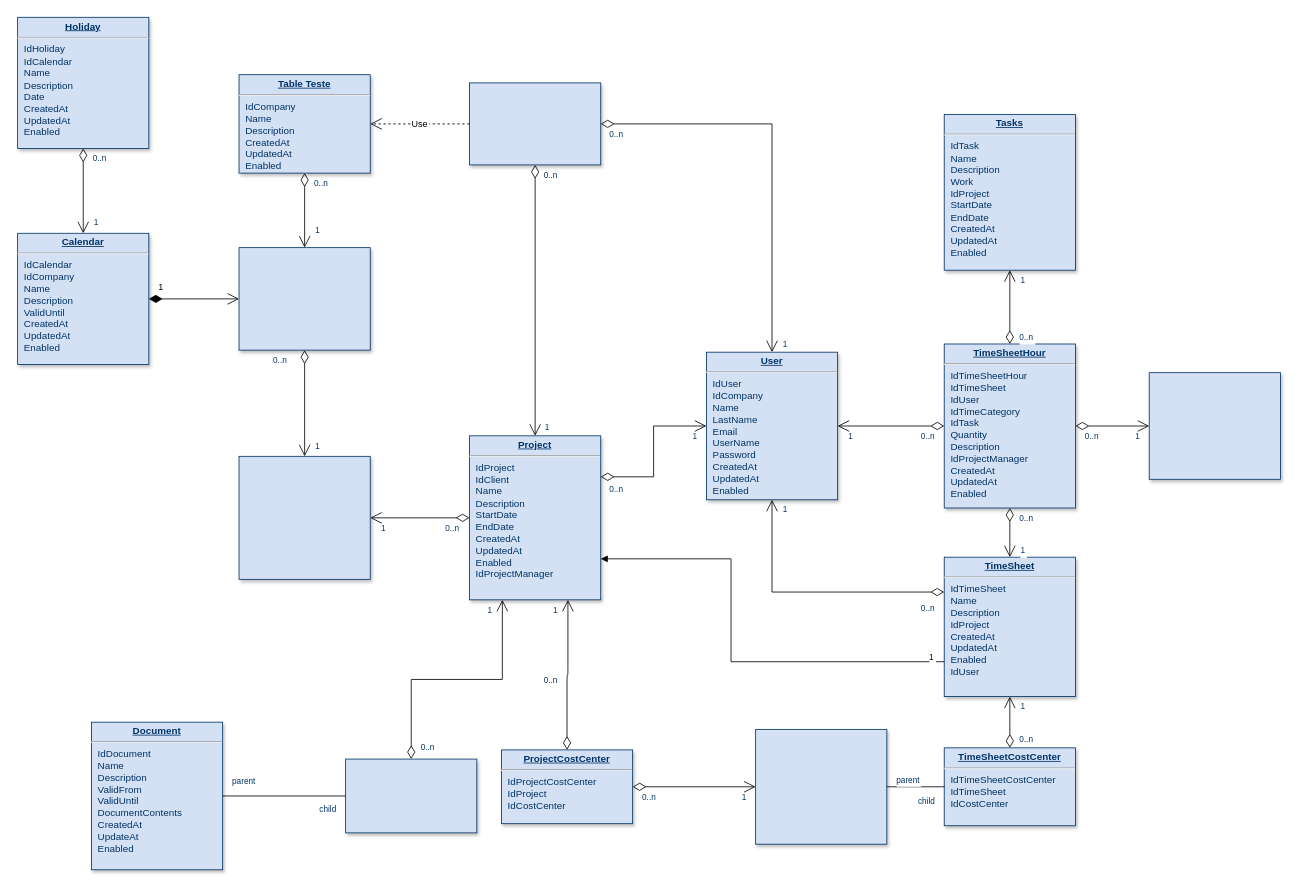
The diagram is 1300 pixels wide and 891 high, and some of its shapes have lost their labels. Each missing label, with the centre of its shape:
"Client IdClient IdCompany Name Description CreatedAt UpdatedAt Enabled" belongs at (305,518).
"Company Name Description CreatedAt UpdatedAt Enabled TesteTable" belongs at (305,300).
"CostCenter IdCostCenter Name Description CreatedAt UpdatedAt Enabled" belongs at (822,787).
"ProjectDocument IdProjectDocument IdProject IdDocument" belongs at (412,797).
"TimeCategory IdTimeCategory Name Description CreatedAt UpdatedAt Enabled" belongs at (1215,427).
"UserProjectRole IdUserProjectRole IdRole IdProject IdUser" belongs at (535,125).
